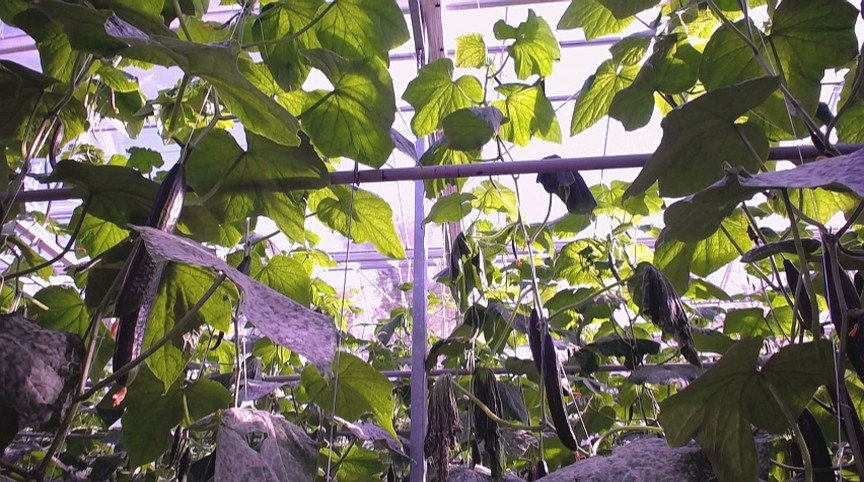cucumber: (116, 163, 189, 313), (823, 254, 864, 370), (543, 336, 578, 451), (111, 309, 154, 387), (796, 407, 834, 482), (781, 259, 813, 325)
